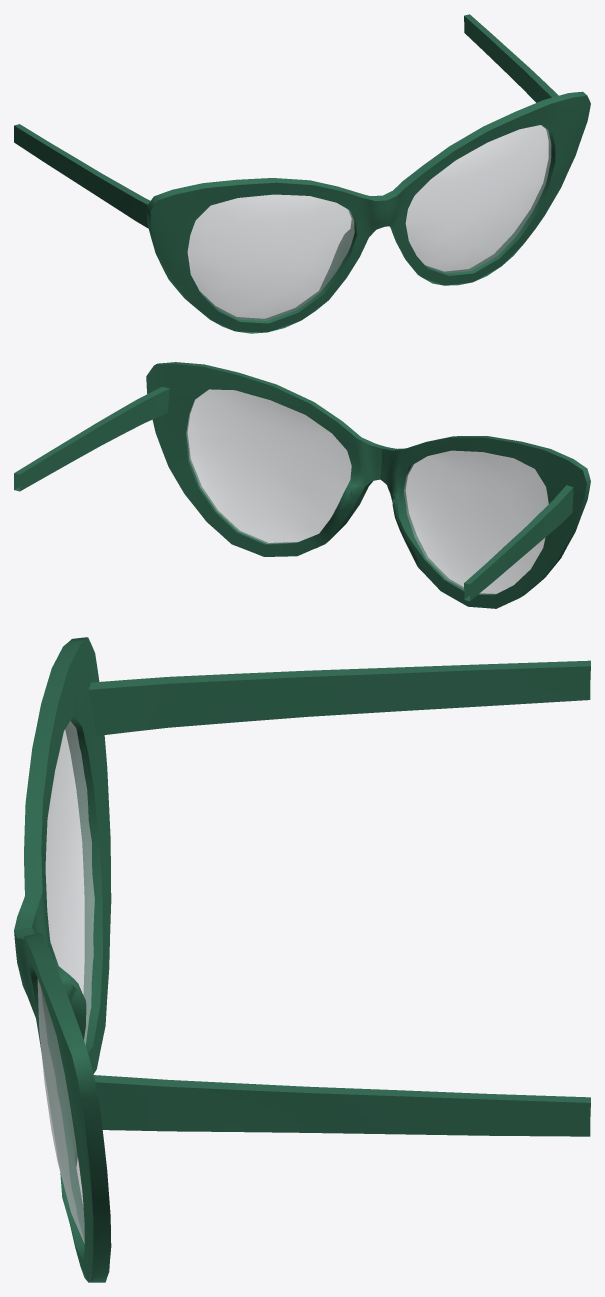
The model's file is model_8_hijau_tua.glb.
3 renders of one model, top to bottom at view 1: azimuth 30°, elevation 25°; view 2: azimuth 150°, elevation 25°; view 3: azimuth 270°, elevation 25°, orthographic. The views are drawn at different scales.
Visible parts, largest first — view 1: model_8_hijau_tua; view 2: model_8_hijau_tua; view 3: model_8_hijau_tua.
Part boxes in pixels (bbox=[...]): model_8_hijau_tua: bbox=[14, 14, 590, 333]; model_8_hijau_tua: bbox=[14, 362, 590, 608]; model_8_hijau_tua: bbox=[14, 637, 590, 1282].
Size of the model in its own units: 15.85 by 5.6 by 8.74.
